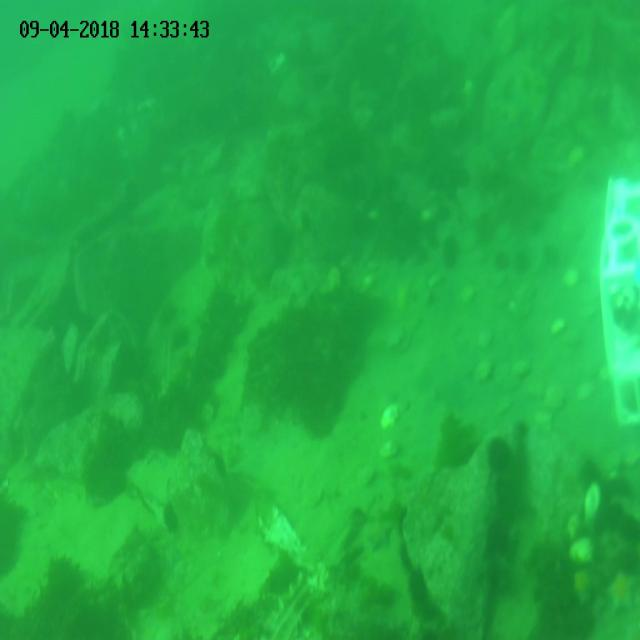echinus: (487, 439, 512, 473), (408, 570, 429, 600), (441, 238, 459, 268), (486, 522, 506, 547), (496, 249, 506, 271)
scallop: (61, 321, 78, 374), (571, 538, 597, 565), (584, 486, 600, 525), (378, 404, 400, 429), (301, 488, 324, 509), (476, 359, 496, 383), (546, 387, 564, 413), (357, 465, 377, 487), (378, 438, 402, 456), (535, 411, 556, 430), (560, 329, 580, 348), (458, 285, 477, 305), (513, 360, 532, 377), (550, 316, 567, 334), (564, 268, 580, 287), (396, 335, 411, 354)
starfish: (606, 574, 640, 618), (573, 566, 597, 604)
